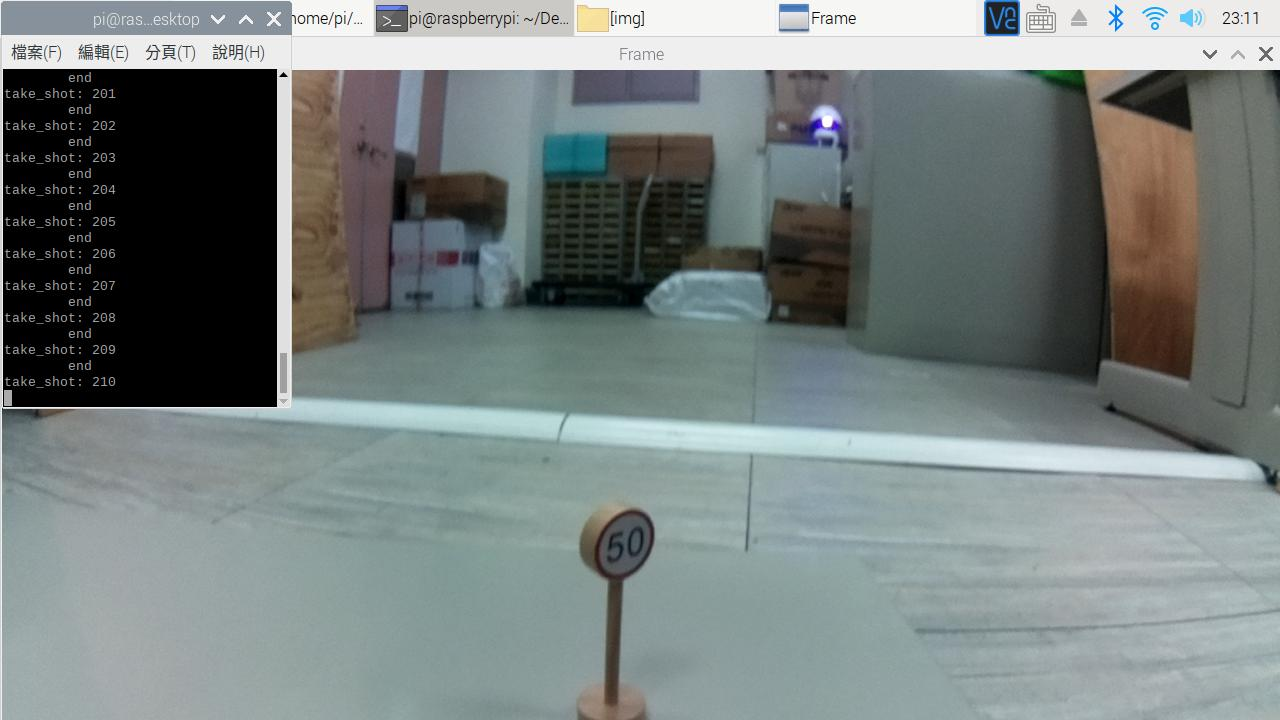Speed50: (570, 483, 676, 617)
